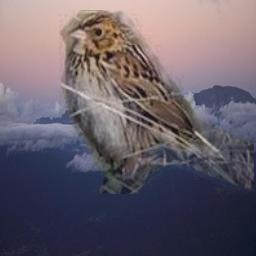Sparrow: (59, 10, 254, 194)
